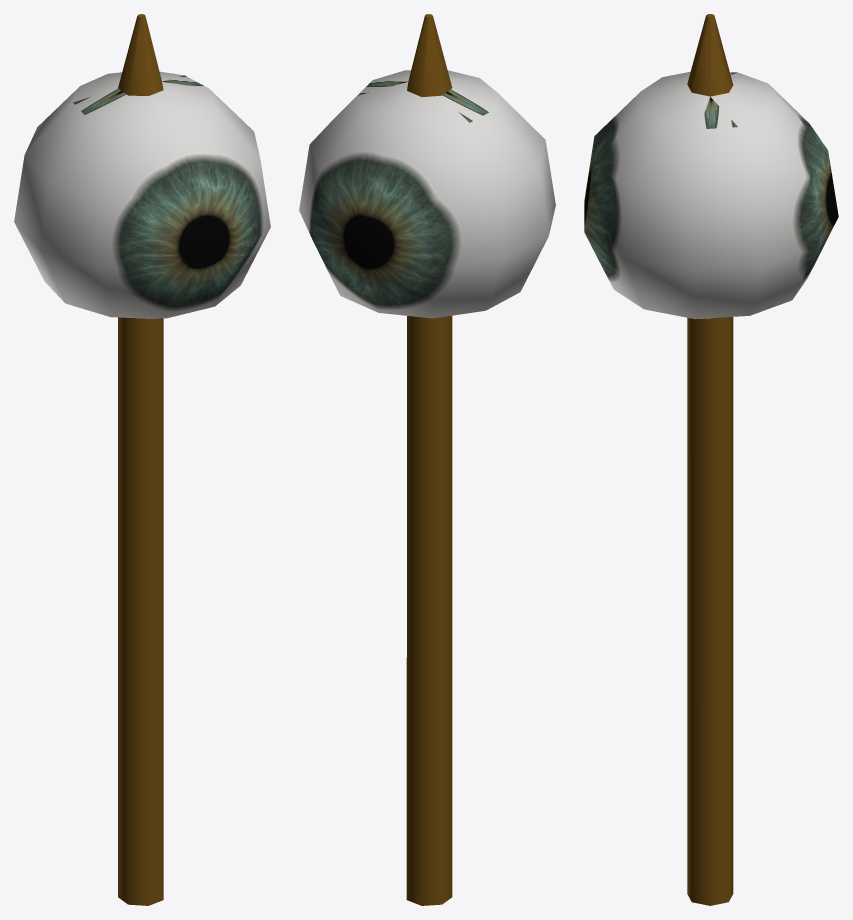
Rendered from Eyeball_On_Spike.fbx.
The picture shows the model from 3 angles, left to right: view 1: azimuth 30°, elevation 25°; view 2: azimuth 150°, elevation 25°; view 3: azimuth 270°, elevation 25°; orthographic projection.
Visible parts, largest first — view 1: Eyeball_On_A_Stick; view 2: Eyeball_On_A_Stick; view 3: Eyeball_On_A_Stick.
Part boxes in pixels (x1,y1,x2,y2): Eyeball_On_A_Stick: [14, 14, 270, 905]; Eyeball_On_A_Stick: [299, 14, 555, 905]; Eyeball_On_A_Stick: [584, 14, 838, 905].
Bounding box in the file's own units: 14.15 × 53.48 × 14.01.
